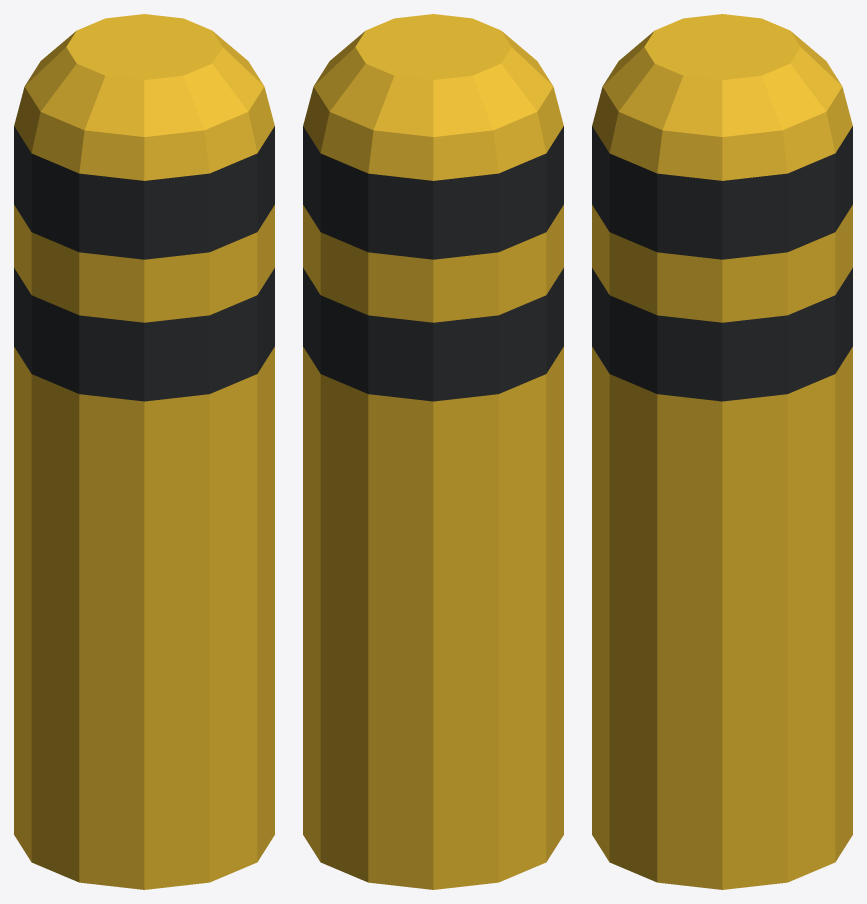
File: bollard.glb
3 views of the same model, side by side, from view 1: azimuth 30°, elevation 25°; view 2: azimuth 150°, elevation 25°; view 3: azimuth 270°, elevation 25° (orthographic).
Visible parts, largest first — view 1: Bollard; view 2: Bollard; view 3: Bollard.
Boxes of the visible parts, <box> form: Bollard: <box>14,14,274,889</box>; Bollard: <box>303,14,563,889</box>; Bollard: <box>592,14,852,889</box>.
Size of what is drawn, in the model's own units: 0.3 by 1 by 0.3.
